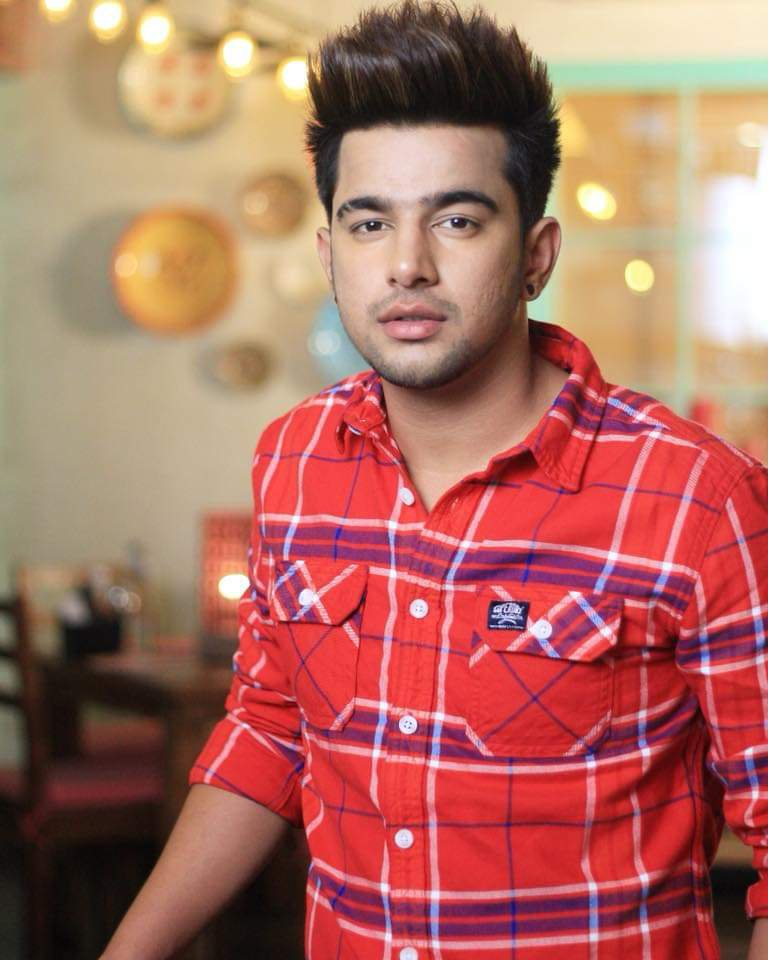noMask: (280, 8, 577, 397)
